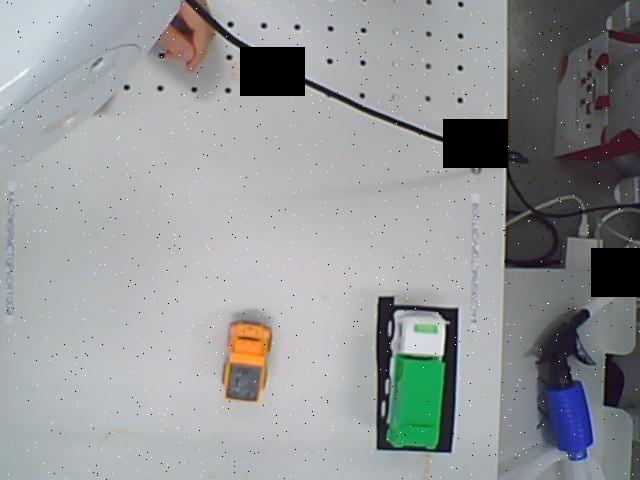Diesel car: (213, 318, 277, 407)
Electric car: (382, 301, 456, 452)
